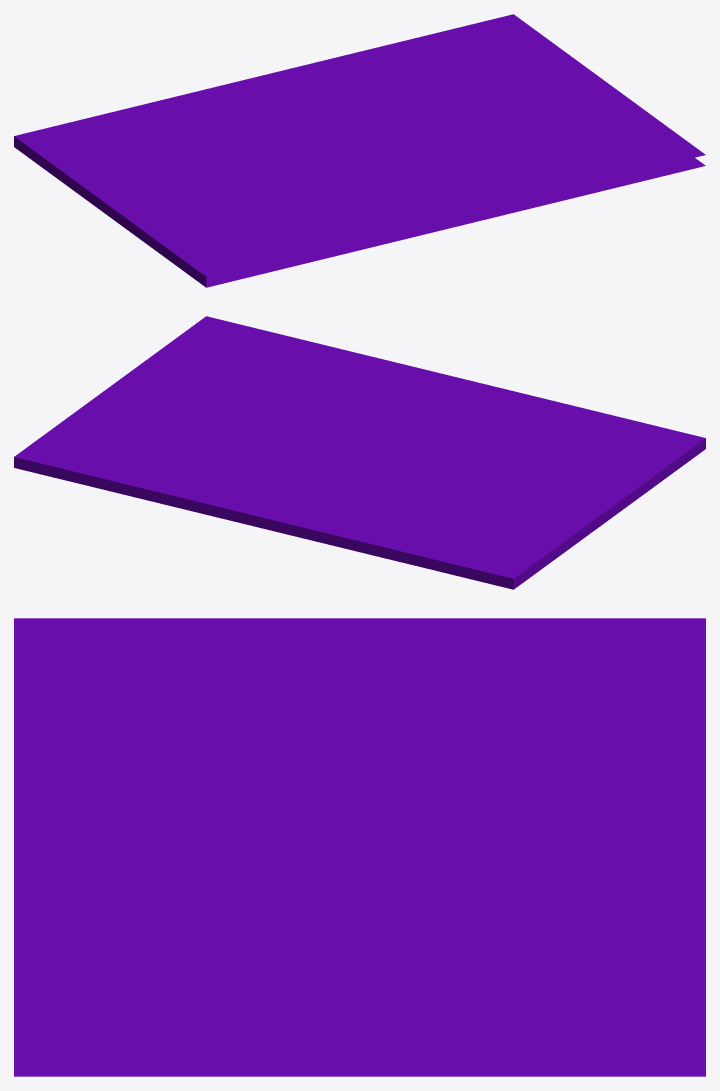
File: PoisonWaterCube.fbx
The picture shows the model from 3 angles, top to bottom: view 1: azimuth 30°, elevation 25°; view 2: azimuth 150°, elevation 25°; view 3: azimuth 270°, elevation 25°; orthographic projection. The views are drawn at different scales.
Parts seen in each view (by area): view 1: PoisonWaterCube__2_; view 2: PoisonWaterCube__2_; view 3: PoisonWaterCube__2_.
Boxes of the visible parts, x1,y1,x2,y2 form: PoisonWaterCube__2_: (14,14,705,287); PoisonWaterCube__2_: (14,316,705,589); PoisonWaterCube__2_: (14,618,705,1076).
Bounding box in the file's own units: 2400 × 50 × 1600.
